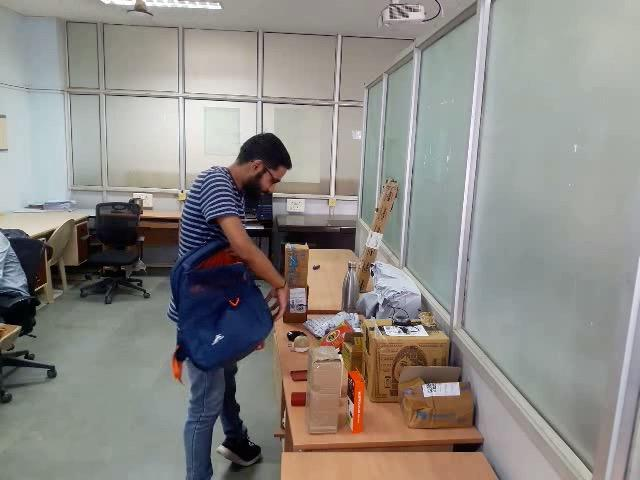shoplifting: (112, 229, 335, 381)
